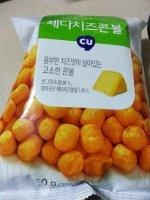snack: (0, 13, 150, 200)
